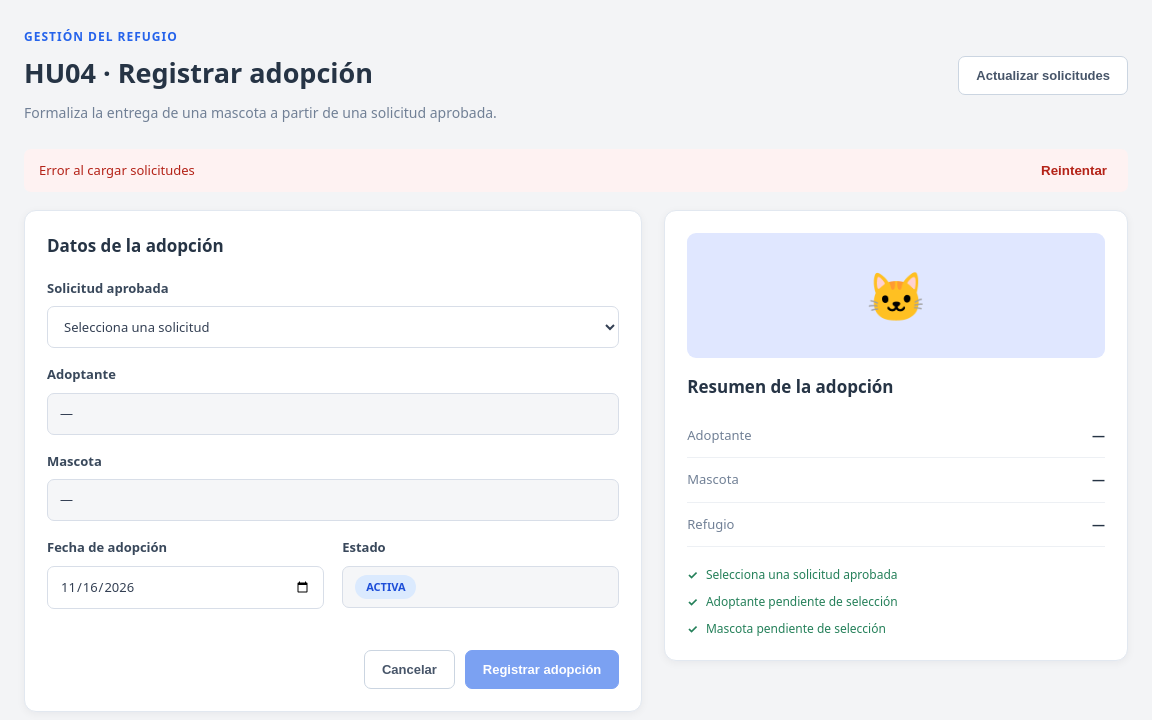
it: HU04 - registrar adopción › permite reintentar la carga después de un error
Check: the text "Error al cargar solicitudes" is shown, box [39,160,195,180]
Click the button "Reintentar" at x=1074, y=170, box [1035,160,1113,180]
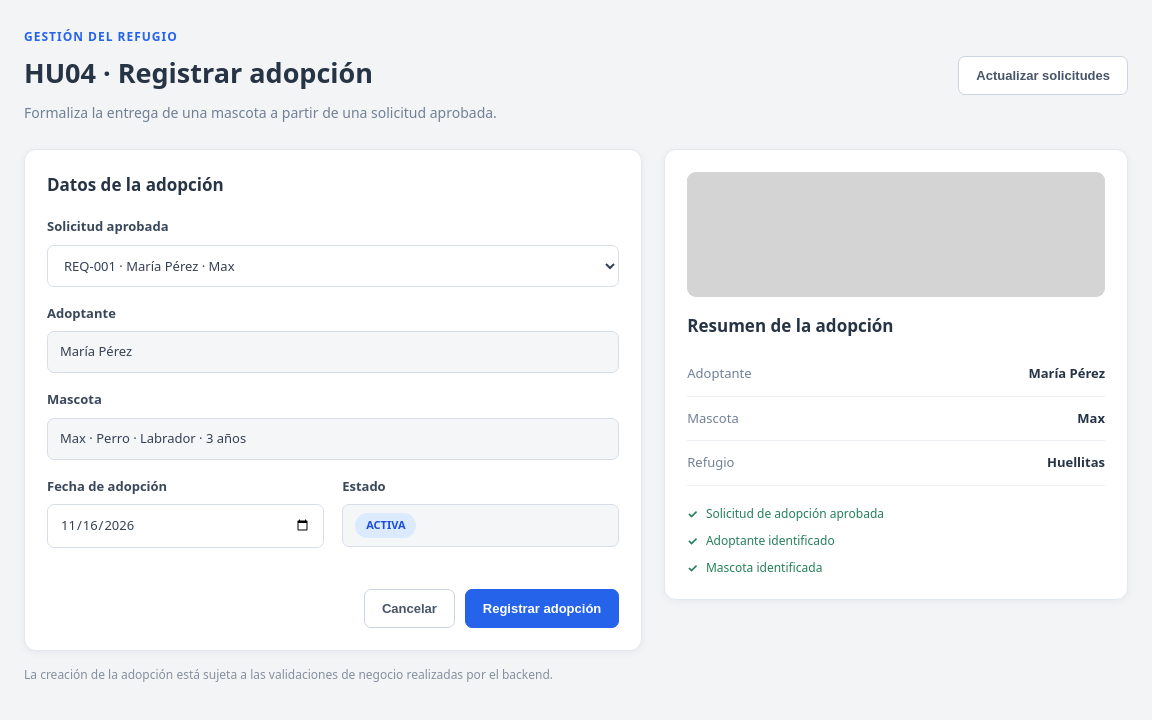
Check: the text "María Pérez" is shown, box [1028,364,1105,384]
